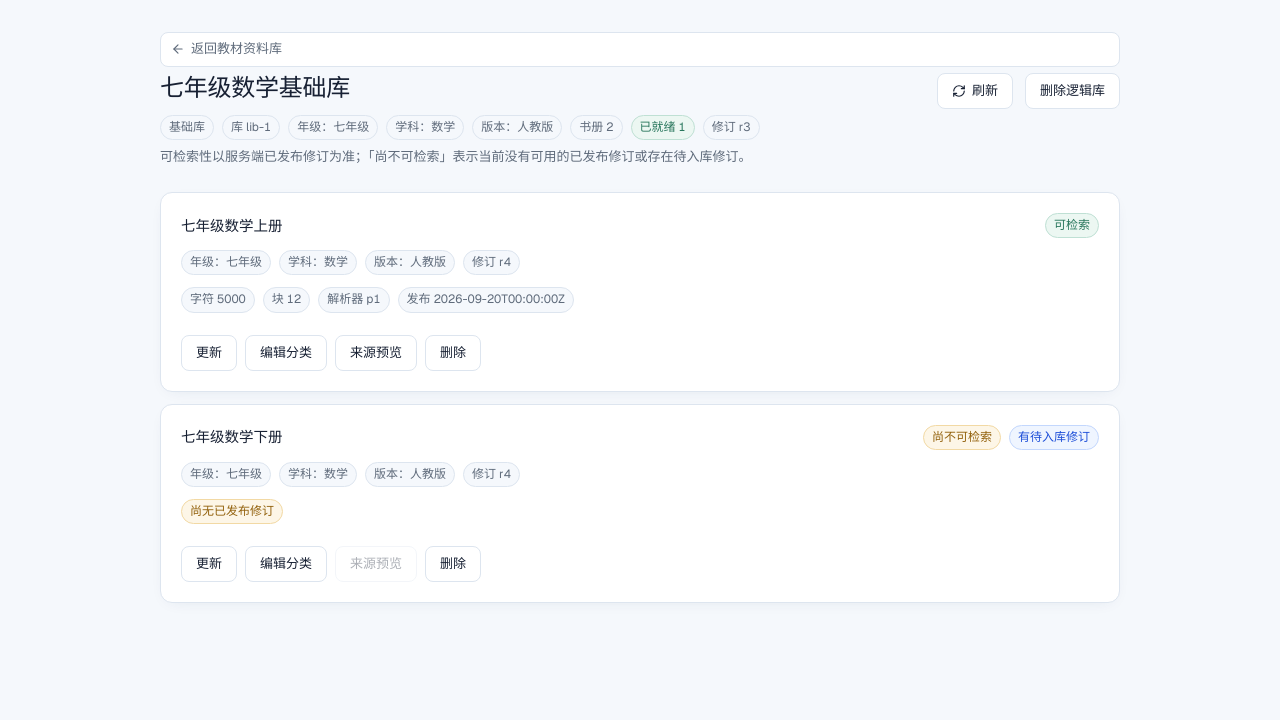
Scenario: 教材库详情 · 逻辑库删除 › 二次确认后 DELETE 带 expectedRevision，成功后显示已删除状态
The width and height of the screenshot is (1280, 720).
Check: the heading "七年级数学基础库" is shown, box 160,73 -> 350,103
Click the button with test id "textbook-library-delete" at (1072, 91), box 1025,73 -> 1120,109
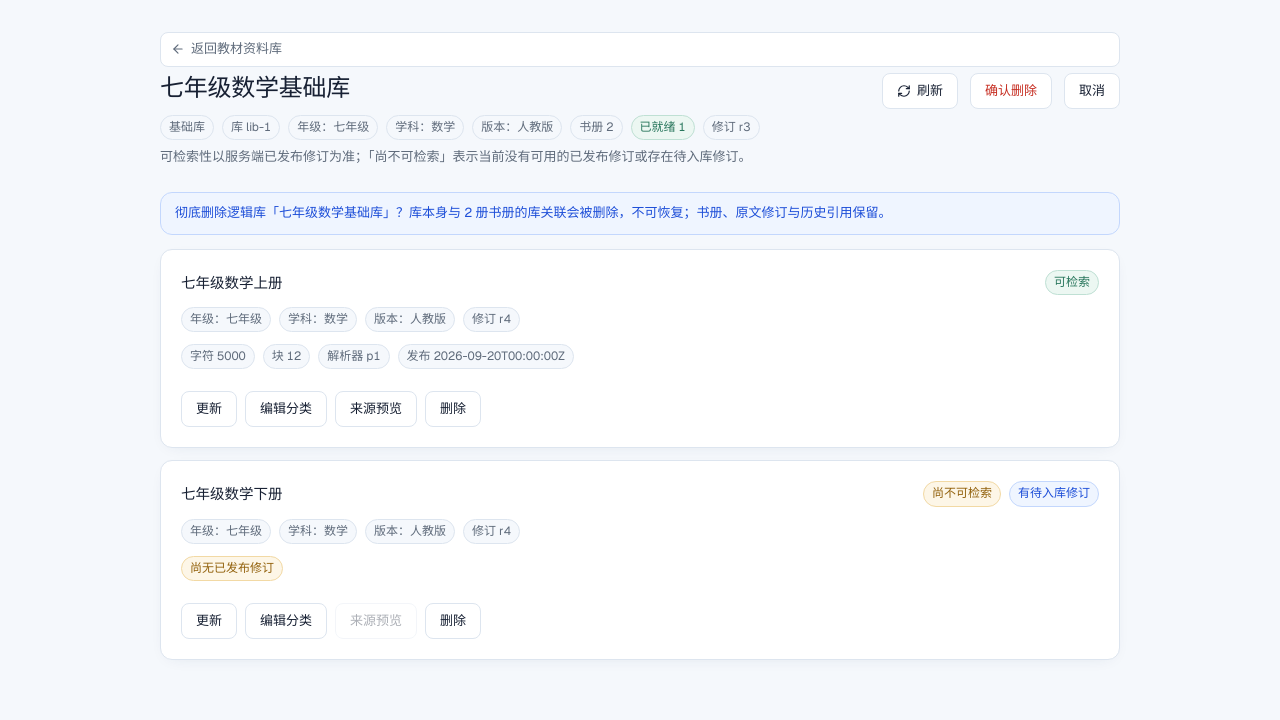
Check: the message with test id "textbook-library-delete-confirm" shows "彻底删除逻辑库「七年级数学基础库」", box 160,192 -> 1120,235
Click the button with test id "textbook-library-confirm-delete" at (1011, 91), box 970,73 -> 1052,109
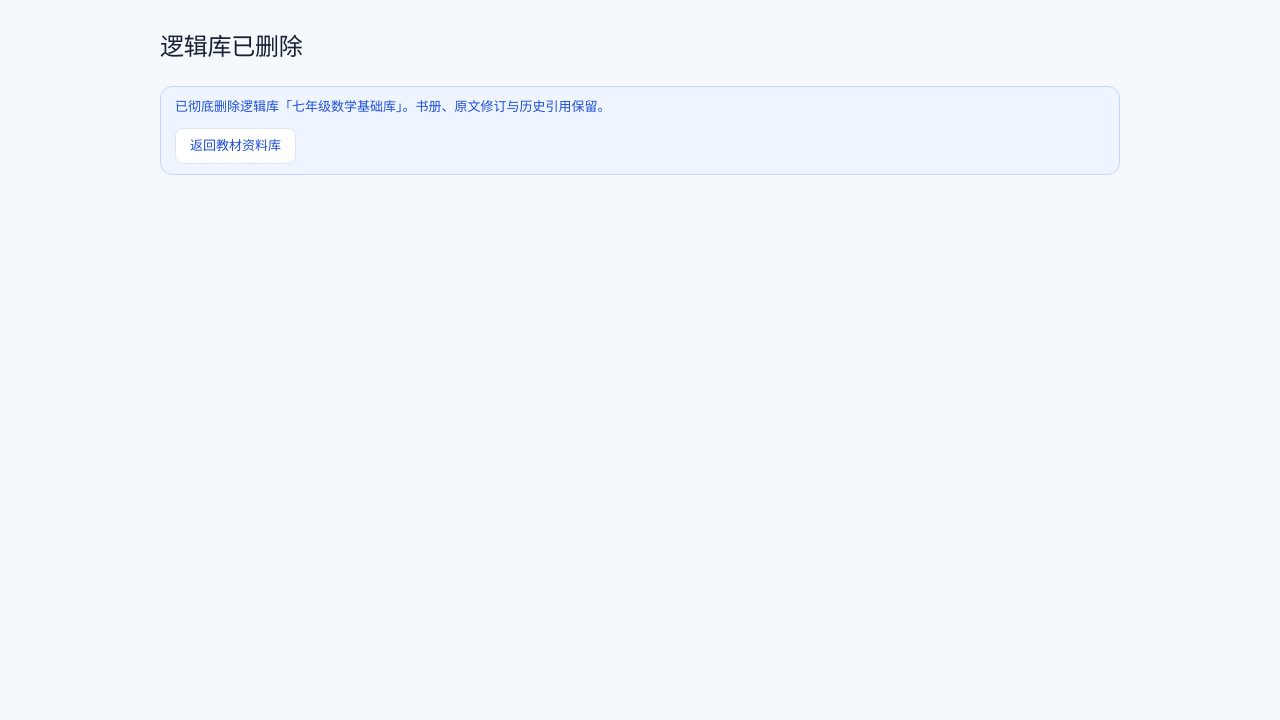
Check: the message with test id "textbook-library-deleted" shows "已彻底删除逻辑库", box 175,98 -> 292,115
